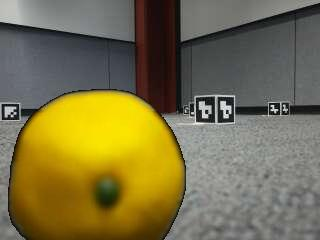lemon: (10, 93, 185, 240)
